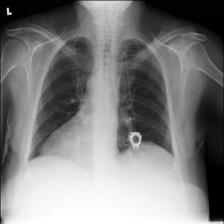normal: (21, 29, 181, 173)
